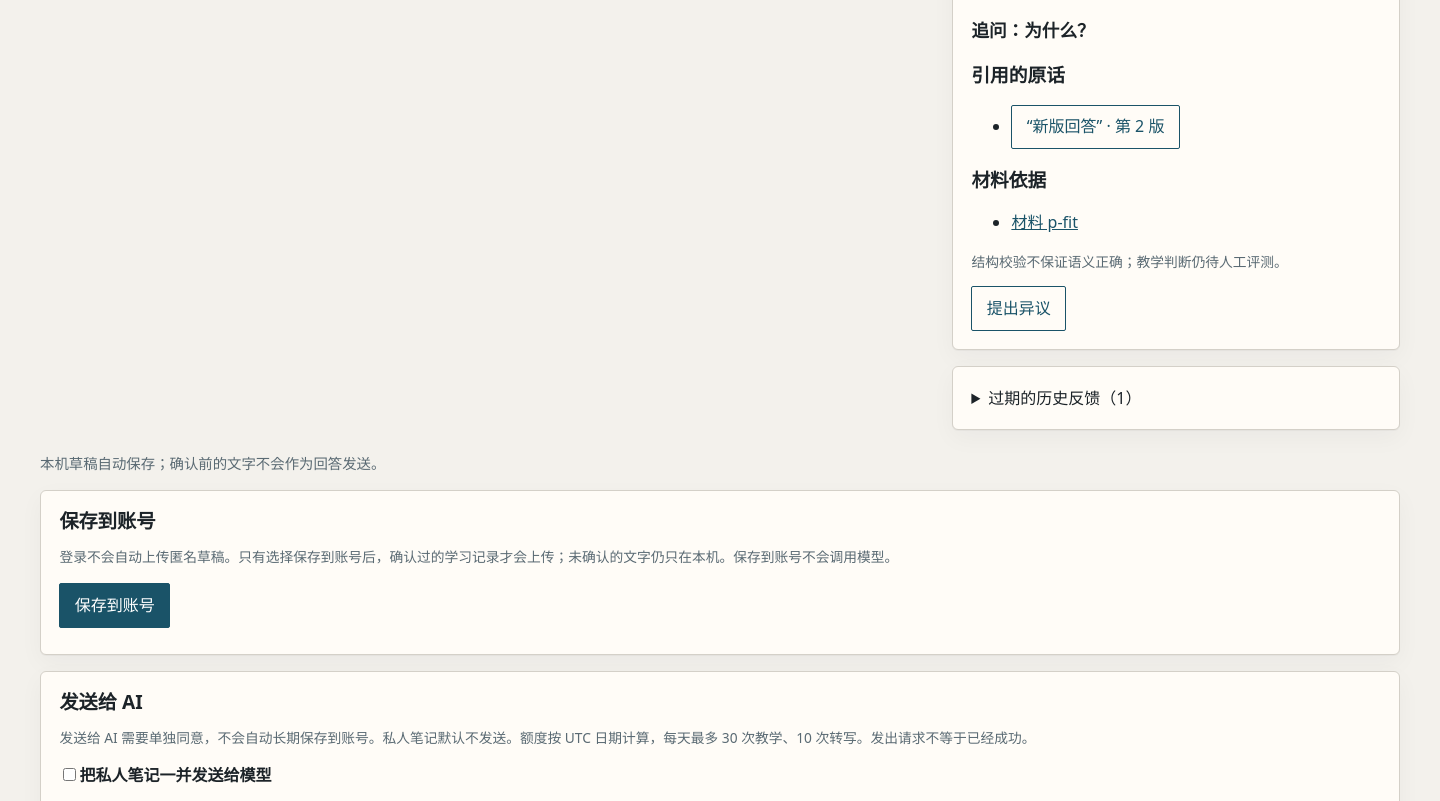
Test: App shows stored current and historical feedback and opens the exact cited revision
(page scrolled)
Step 1. Click the heading "过期的历史反馈（1）" → (1065, 398), box [988,387,1142,409]
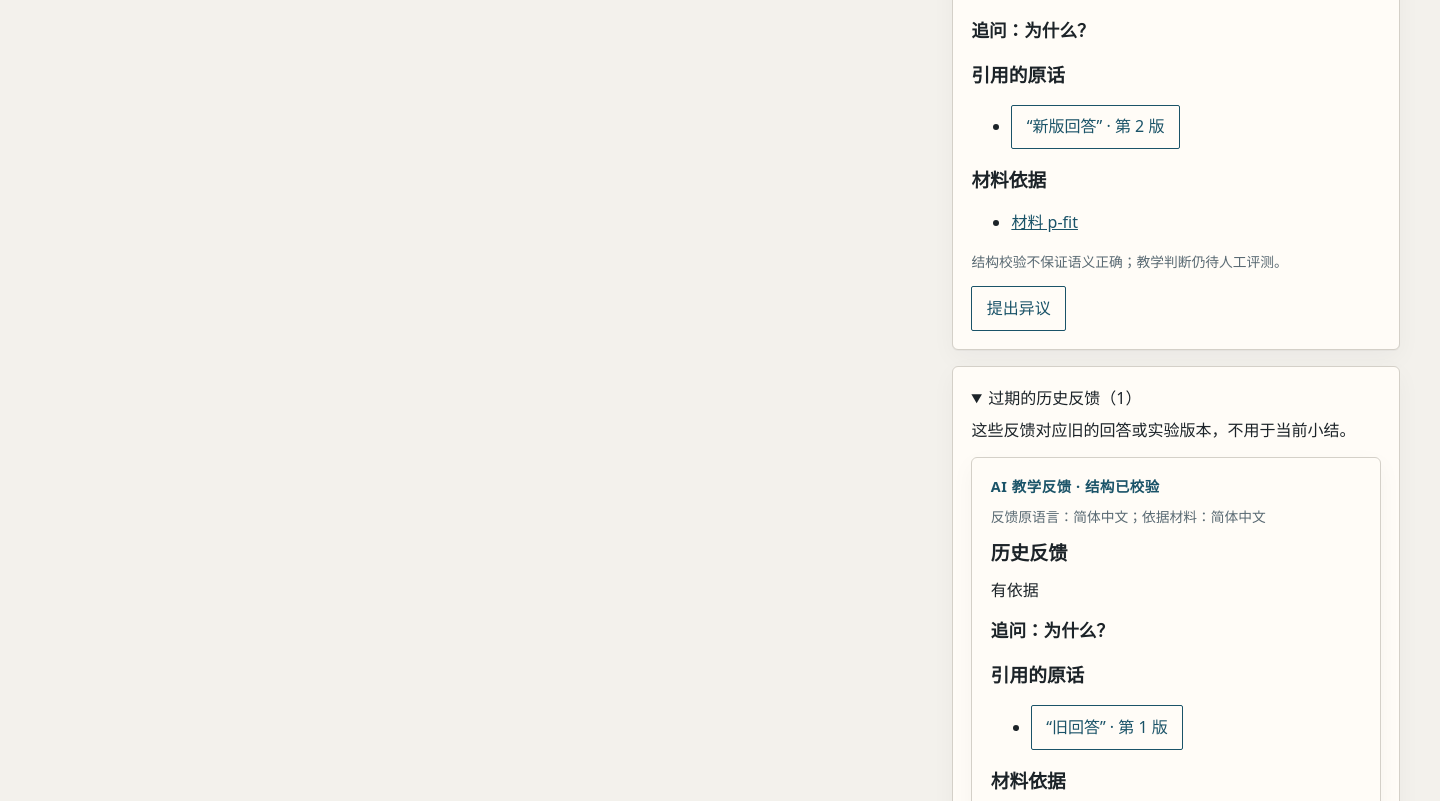
Check: the heading "历史反馈" is shown, box [991,539,1068,566]
Step 2. Click the button with aria-label "查看第 1 版原话" → (1107, 728), box [1031,706,1183,750]
(page scrolled)
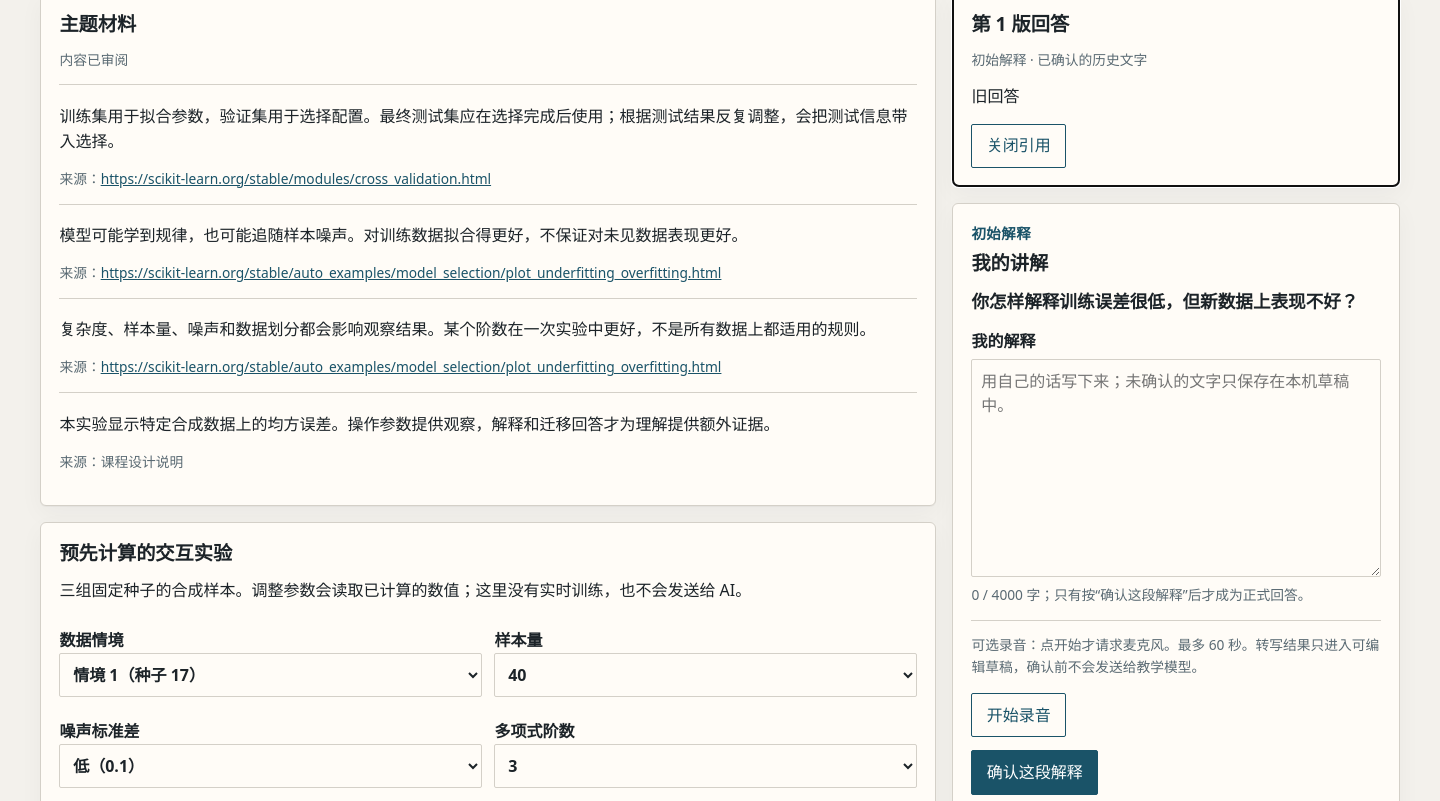
Check: the heading "第 1 版回答" is shown, box [971,10,1069,37]
Check: the text "旧回答" is shown, box [971,86,1019,108]
